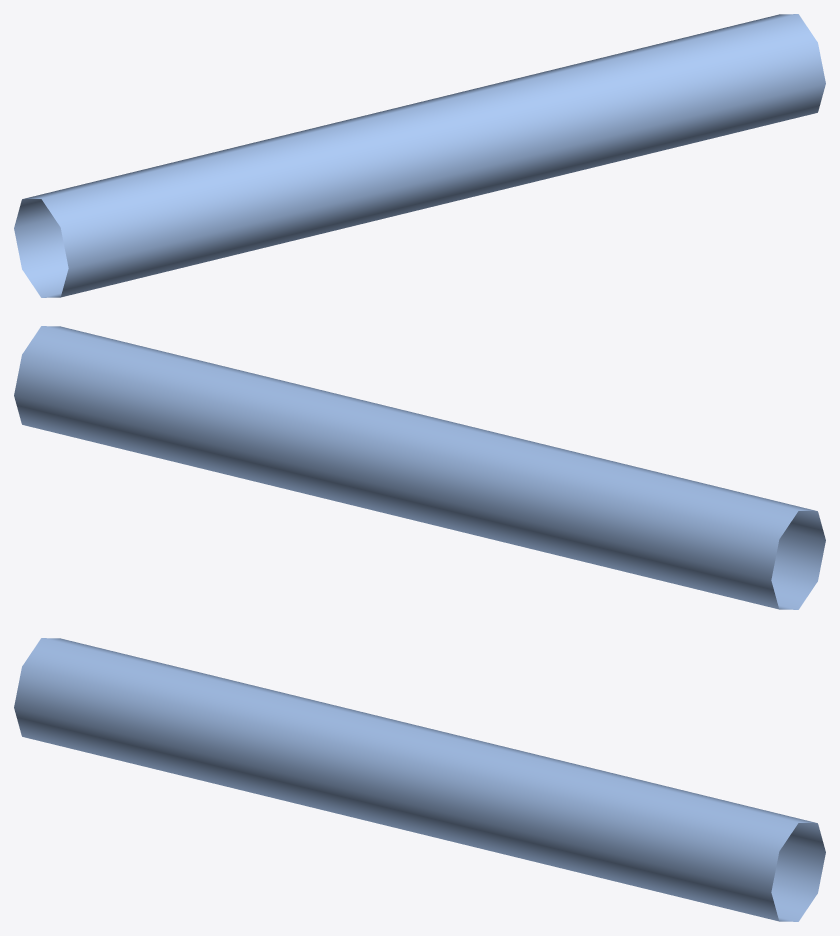
The model's file is PipeSmall_Straight_L08.fbx.
3 renders of one model, top to bottom at view 1: azimuth 30°, elevation 25°; view 2: azimuth 150°, elevation 25°; view 3: azimuth 330°, elevation 25°, orthographic.
Visible parts, largest first — view 1: PipeSmall_Straight_L08.001; view 2: PipeSmall_Straight_L08.001; view 3: PipeSmall_Straight_L08.001.
Part boxes in pixels (x1=…): PipeSmall_Straight_L08.001: x1=14, y1=14, x2=825, y2=297; PipeSmall_Straight_L08.001: x1=14, y1=326, x2=825, y2=609; PipeSmall_Straight_L08.001: x1=14, y1=638, x2=825, y2=921.
Size of the model in its own units: 0.8 by 0.1 by 0.1.
